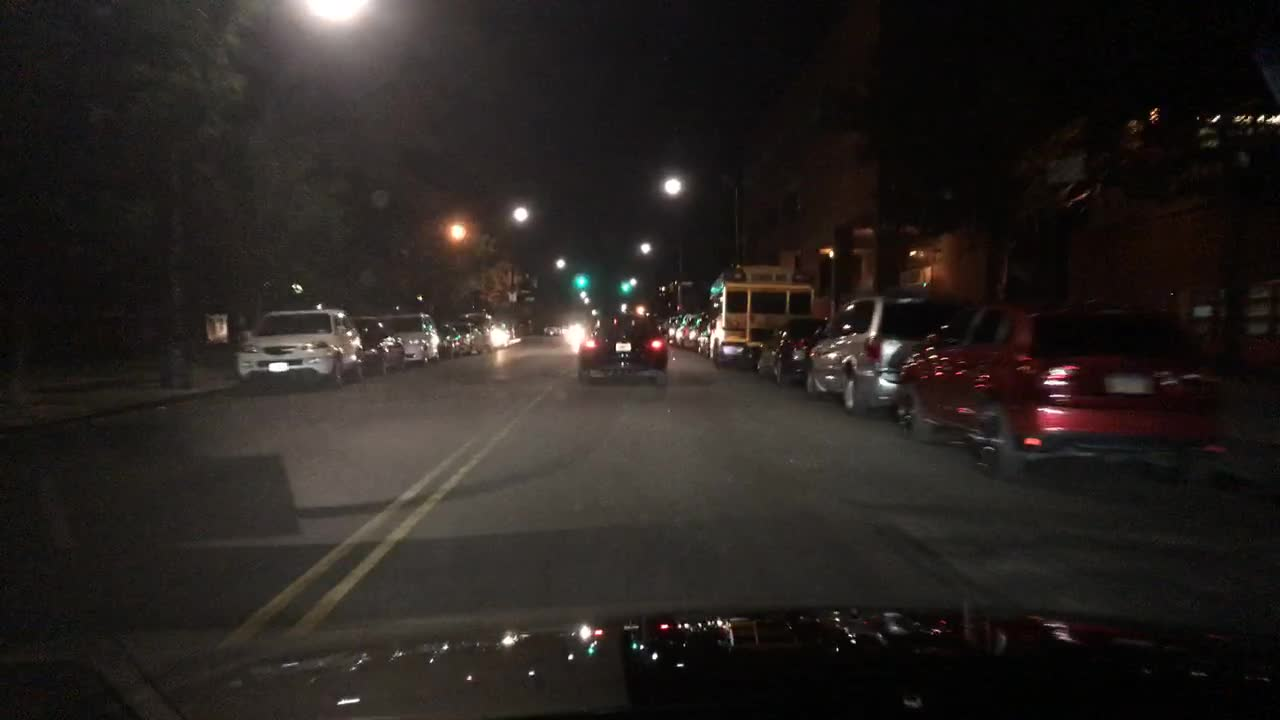car: (890, 294, 1236, 481), (802, 296, 940, 419), (234, 306, 366, 387), (578, 308, 672, 388), (756, 316, 826, 385), (352, 315, 408, 372), (383, 310, 438, 363), (478, 313, 517, 348), (434, 317, 462, 354), (455, 320, 485, 353), (681, 317, 709, 349), (666, 316, 683, 343), (543, 323, 563, 339)
truck: (703, 264, 809, 369)
